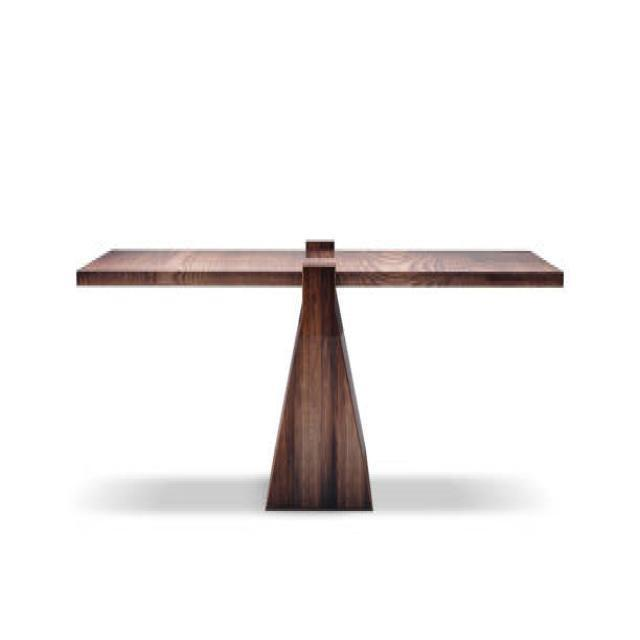table: (75, 239, 564, 512)
